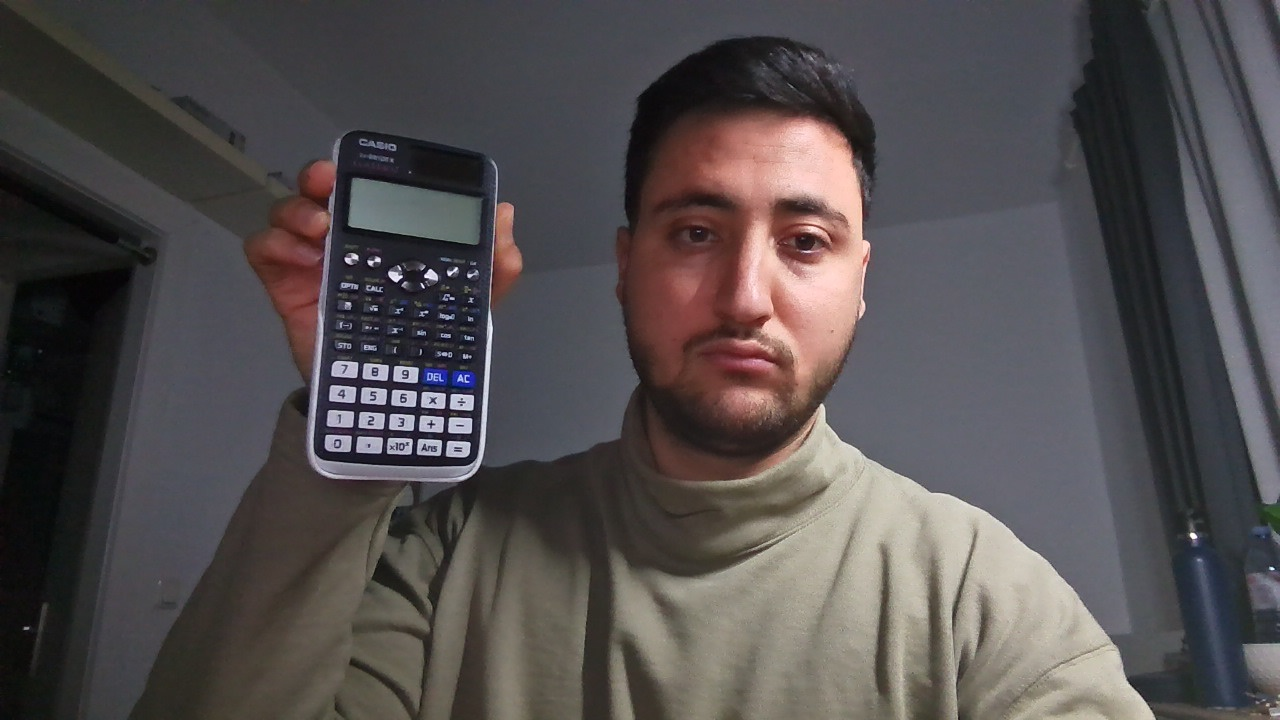Taschenrechner: (265, 122, 516, 498)
Wasserflasche: (1159, 503, 1263, 711)
me: (600, 26, 912, 461)
